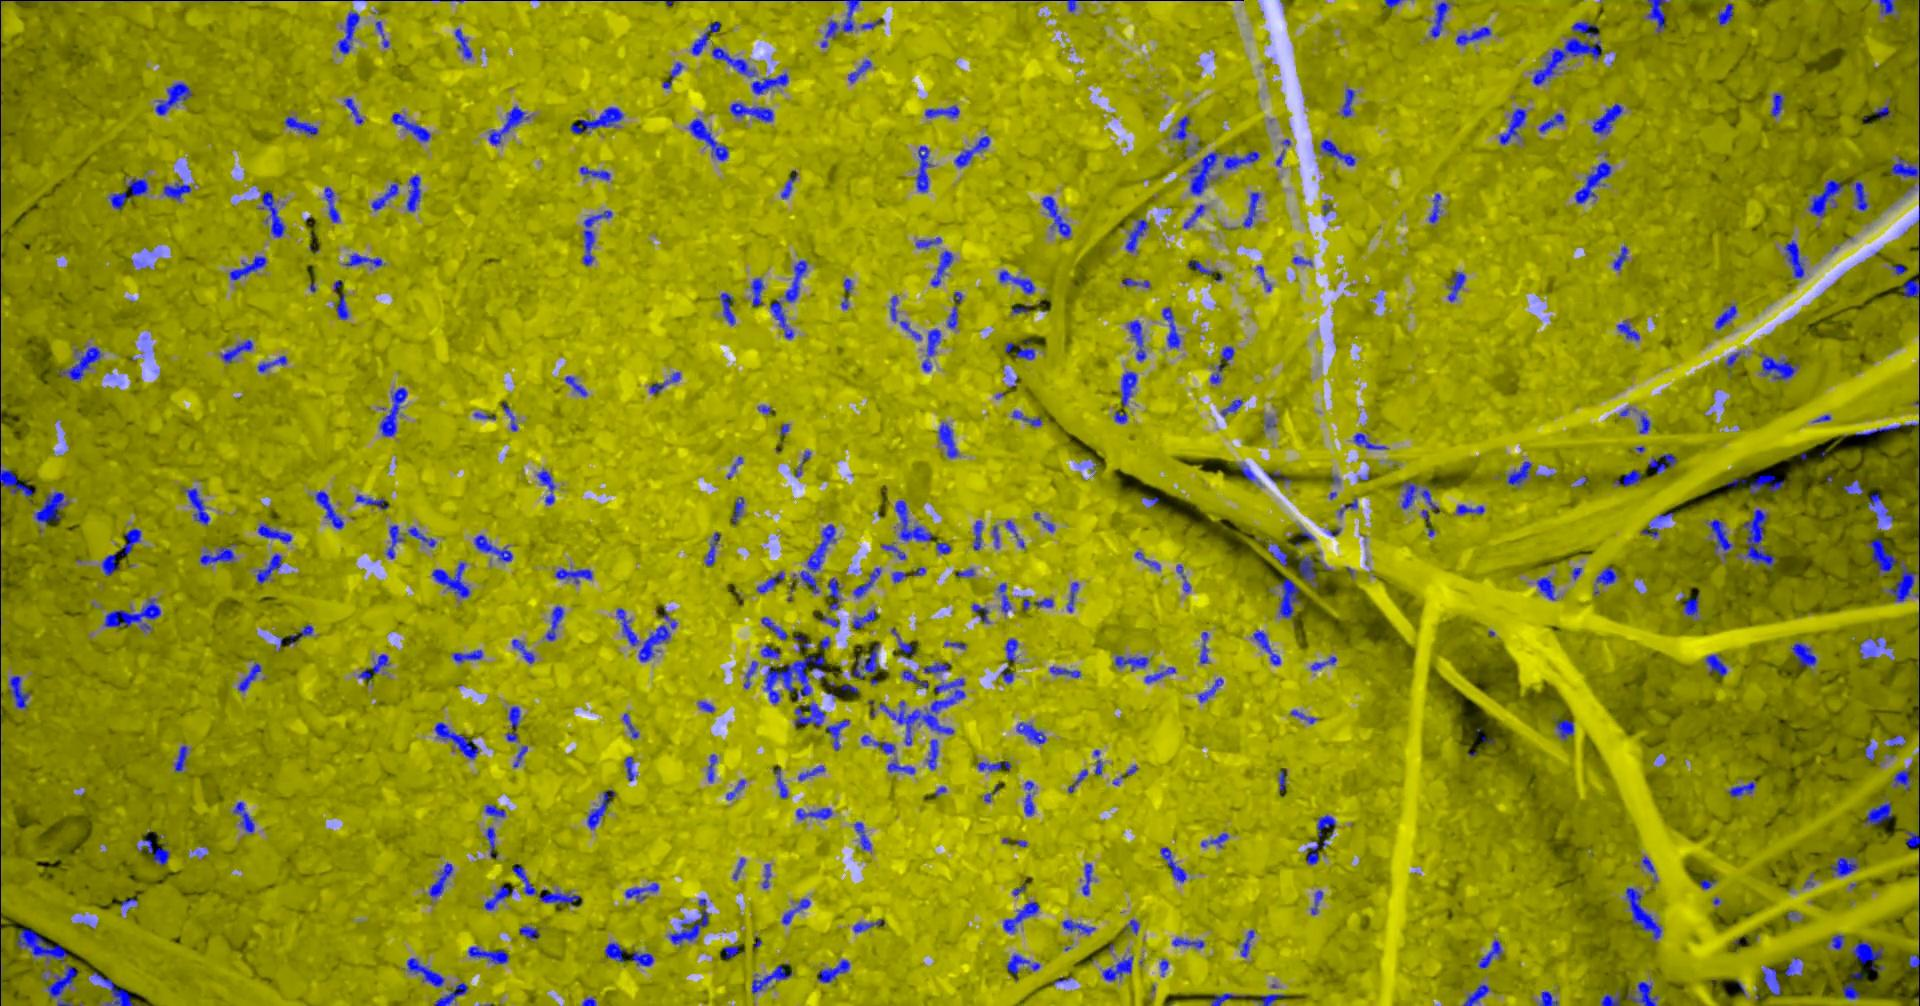ant: (1531, 37, 1603, 84), (1865, 539, 1919, 601), (792, 525, 836, 593), (510, 866, 582, 904), (1742, 509, 1775, 569), (820, 0, 862, 47), (103, 598, 160, 631), (668, 898, 709, 944), (1625, 887, 1661, 939), (102, 528, 141, 575), (637, 614, 677, 661), (17, 927, 67, 962), (582, 210, 612, 265), (488, 105, 530, 145), (688, 118, 728, 160), (434, 721, 477, 758), (1575, 161, 1611, 203), (58, 345, 102, 381), (1189, 150, 1222, 196), (895, 500, 932, 541), (570, 105, 623, 133), (889, 295, 921, 340), (91, 970, 132, 1005), (711, 46, 756, 76), (430, 561, 469, 597), (378, 387, 406, 436), (257, 191, 284, 238), (0, 465, 36, 502), (108, 178, 149, 210), (46, 964, 77, 1005), (154, 81, 190, 116), (1808, 179, 1843, 216), (1041, 196, 1070, 238), (1401, 481, 1439, 513), (585, 789, 615, 829), (750, 964, 791, 993), (1002, 901, 1039, 932), (391, 112, 430, 141), (954, 135, 989, 166), (314, 490, 343, 528), (850, 641, 879, 680), (406, 956, 444, 986), (472, 533, 512, 561), (34, 492, 67, 525), (136, 833, 169, 865), (1498, 108, 1526, 144), (1705, 520, 1732, 556), (184, 486, 210, 525), (337, 11, 359, 53), (783, 260, 806, 302), (1319, 138, 1355, 165), (1253, 630, 1280, 666), (1761, 353, 1798, 379), (1591, 103, 1622, 133), (1851, 941, 1883, 970), (691, 22, 719, 55), (1209, 345, 1233, 384), (1159, 847, 1186, 882), (770, 298, 792, 338), (229, 255, 265, 279), (1006, 954, 1039, 981), (1277, 578, 1299, 619), (428, 862, 452, 898), (852, 567, 880, 597), (729, 102, 773, 121), (1641, 511, 1672, 537), (750, 72, 789, 94), (1854, 422, 1919, 434), (616, 607, 637, 645), (930, 250, 952, 286), (998, 271, 1034, 293), (358, 653, 389, 680), (921, 329, 940, 371), (433, 982, 467, 1005), (916, 145, 932, 192), (1161, 307, 1180, 348), (890, 627, 916, 658), (1125, 218, 1148, 251), (817, 959, 850, 982), (1784, 240, 1804, 277), (781, 898, 810, 923), (1102, 955, 1131, 981), (1749, 473, 1783, 494), (257, 553, 281, 583), (237, 661, 262, 691), (825, 719, 850, 749), (483, 885, 513, 909), (1627, 981, 1657, 1005), (220, 339, 251, 362), (649, 371, 681, 394), (1128, 319, 1145, 359), (937, 422, 957, 457), (8, 674, 29, 708), (371, 183, 397, 210), (1478, 939, 1502, 968), (1429, 0, 1448, 37), (536, 467, 555, 504), (794, 702, 824, 725), (1223, 150, 1258, 169), (860, 734, 895, 753), (467, 946, 508, 963), (1016, 721, 1046, 743), (232, 801, 254, 832), (1242, 191, 1260, 227), (1455, 25, 1490, 44), (283, 116, 317, 135), (623, 882, 658, 901), (1646, 0, 1666, 32), (1790, 641, 1816, 667), (199, 546, 235, 564), (545, 605, 563, 640), (1507, 461, 1531, 486), (1197, 677, 1222, 702), (1865, 801, 1891, 826), (257, 525, 291, 542), (761, 616, 787, 639), (946, 291, 963, 328), (163, 178, 190, 199), (408, 526, 436, 547), (1120, 371, 1137, 406), (385, 525, 403, 558), (847, 58, 871, 83), (510, 639, 535, 663), (1295, 554, 1316, 582), (756, 572, 783, 592), (1829, 856, 1857, 876), (1841, 970, 1862, 998), (1462, 984, 1490, 1005), (1352, 432, 1387, 448), (324, 185, 339, 222), (555, 568, 592, 583), (1890, 158, 1919, 177), (1714, 304, 1736, 329), (1305, 838, 1327, 864), (1538, 112, 1564, 132), (1448, 271, 1465, 301), (1648, 453, 1676, 473), (1004, 520, 1023, 547), (1761, 967, 1780, 995), (1182, 205, 1205, 227), (1266, 542, 1288, 567), (1849, 180, 1867, 210), (257, 354, 286, 372), (662, 62, 682, 88), (406, 174, 420, 211), (902, 669, 928, 688), (455, 28, 471, 58), (720, 292, 735, 325), (356, 494, 389, 509), (703, 532, 719, 565), (1144, 666, 1175, 682), (343, 253, 382, 265), (780, 170, 797, 198), (1613, 469, 1641, 486), (1617, 319, 1639, 340), (564, 375, 587, 396), (1067, 768, 1087, 793), (343, 98, 362, 123), (1134, 551, 1159, 570), (855, 821, 871, 850), (1114, 655, 1148, 669), (505, 706, 519, 741), (1011, 410, 1041, 426), (772, 767, 787, 798), (1062, 920, 1095, 934), (1595, 565, 1619, 584), (1537, 575, 1556, 600), (1554, 716, 1573, 741), (1316, 814, 1335, 838), (795, 807, 830, 819), (502, 401, 517, 431), (827, 577, 841, 608), (997, 582, 1011, 614), (1705, 654, 1726, 676), (852, 608, 875, 627), (290, 624, 312, 643), (1210, 992, 1244, 1005), (1571, 22, 1599, 37), (795, 450, 810, 478), (1200, 832, 1228, 847), (1239, 929, 1255, 956), (1255, 265, 1271, 291), (725, 779, 745, 799), (1004, 638, 1018, 667), (1716, 3, 1733, 25), (1187, 260, 1214, 276), (797, 765, 824, 780), (1065, 580, 1078, 612), (852, 920, 884, 932), (1172, 116, 1189, 140), (881, 542, 905, 559), (924, 105, 959, 117), (743, 661, 757, 688), (579, 166, 610, 179), (1015, 339, 1034, 359), (452, 649, 483, 662), (622, 713, 637, 738), (926, 739, 938, 770), (1728, 781, 1754, 796), (604, 942, 625, 962), (1220, 399, 1242, 417), (1236, 464, 1257, 481), (977, 760, 1010, 771), (1893, 767, 1910, 790), (1081, 862, 1092, 895), (1176, 564, 1190, 591), (888, 760, 914, 774), (485, 826, 497, 857), (1337, 498, 1357, 516), (1023, 780, 1034, 815), (375, 22, 389, 47), (1341, 88, 1354, 116), (1613, 245, 1627, 271), (750, 277, 763, 305), (1310, 655, 1336, 669), (1290, 709, 1316, 723), (1429, 193, 1440, 224), (1683, 593, 1698, 616), (1049, 666, 1079, 677), (1421, 509, 1434, 536), (971, 603, 989, 622), (174, 746, 187, 772), (623, 756, 637, 780), (512, 746, 527, 767), (631, 951, 653, 967), (335, 293, 348, 319), (1171, 937, 1203, 948), (731, 497, 743, 525), (792, 634, 810, 652), (1902, 279, 1919, 298), (1843, 478, 1862, 494), (1784, 956, 1801, 976), (971, 520, 982, 550), (1770, 91, 1783, 116), (923, 662, 950, 673), (1455, 504, 1484, 514), (1876, 504, 1892, 522), (1600, 989, 1619, 1005), (1258, 993, 1284, 1005), (1121, 277, 1149, 287), (1199, 631, 1208, 663), (1310, 890, 1322, 915), (1265, 471, 1291, 481), (759, 644, 778, 658), (1905, 829, 1919, 848), (916, 238, 941, 248), (484, 804, 504, 817), (518, 925, 538, 937), (721, 945, 742, 958), (1724, 351, 1738, 368), (707, 754, 716, 782), (1539, 991, 1557, 1005), (820, 615, 839, 627), (1873, 105, 1890, 119), (1867, 492, 1881, 508), (999, 667, 1013, 683), (1641, 856, 1655, 873), (761, 862, 770, 888), (1638, 414, 1650, 433), (1093, 749, 1102, 774), (1879, 0, 1895, 14), (1277, 768, 1286, 791), (1112, 410, 1128, 423), (1831, 934, 1844, 949), (1890, 264, 1906, 276), (697, 701, 714, 713), (1888, 734, 1905, 746), (1699, 878, 1716, 889), (1035, 597, 1053, 607), (992, 525, 999, 547), (1126, 920, 1138, 935), (1291, 257, 1310, 265), (935, 542, 950, 553), (1864, 744, 1874, 760), (1384, 0, 1403, 8), (891, 572, 905, 582), (1909, 953, 1919, 967), (956, 568, 974, 575), (1917, 658, 1919, 711)
